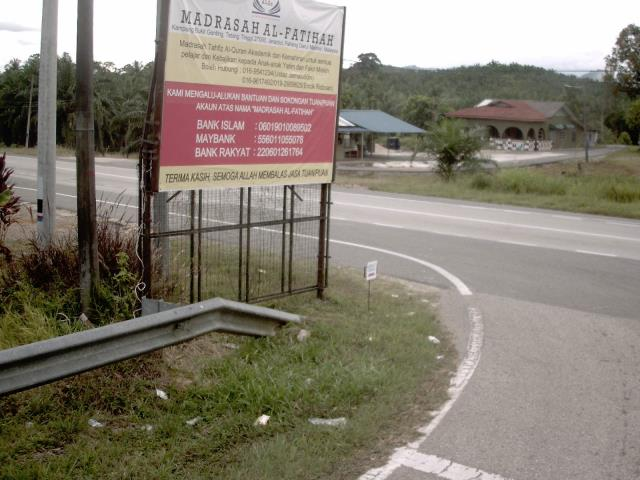ads_sign: (139, 1, 345, 198)
